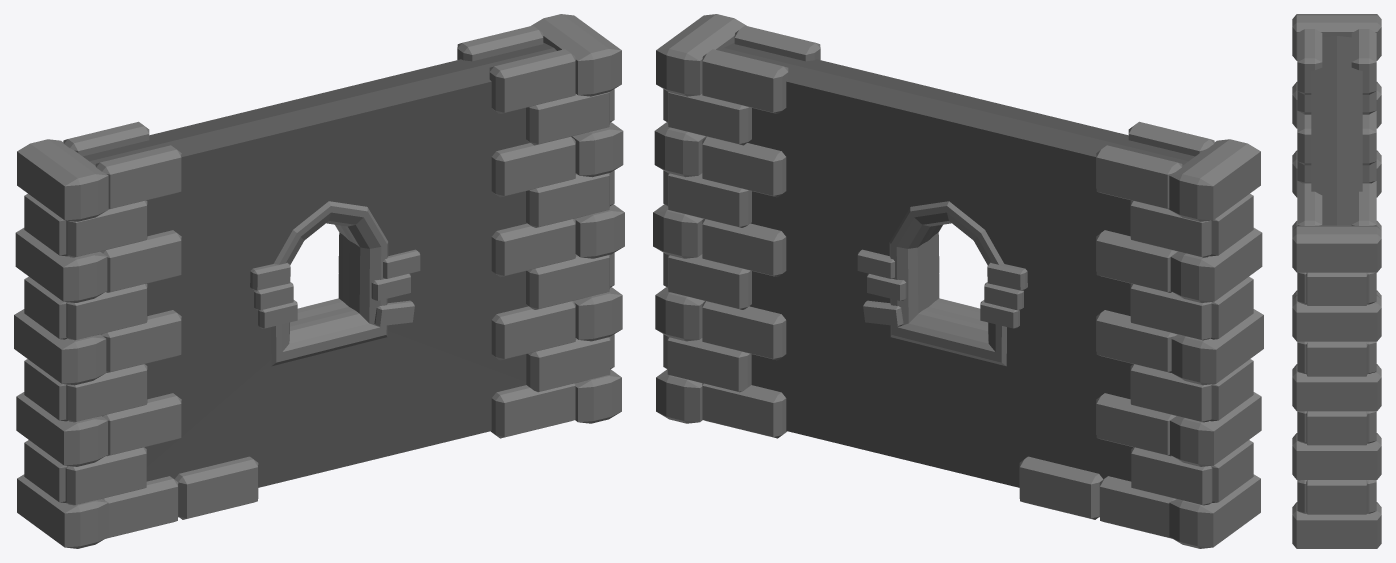
File: DungeonWallWindow.fbx
3 renders of one model, left to right at view 1: azimuth 30°, elevation 25°; view 2: azimuth 150°, elevation 25°; view 3: azimuth 270°, elevation 25°, orthographic. The views are drawn at different scales.
Parts seen in each view (by area): view 1: DungeonWallWindow; view 2: DungeonWallWindow; view 3: DungeonWallWindow.
Part boxes in pixels (x1,y1,x2,y2): DungeonWallWindow: (14,14,624,548); DungeonWallWindow: (653,14,1263,548); DungeonWallWindow: (1292,14,1381,548).
Bounding box in the file's own units: 555 × 350 × 90.43.
1 material, 1 textured.
